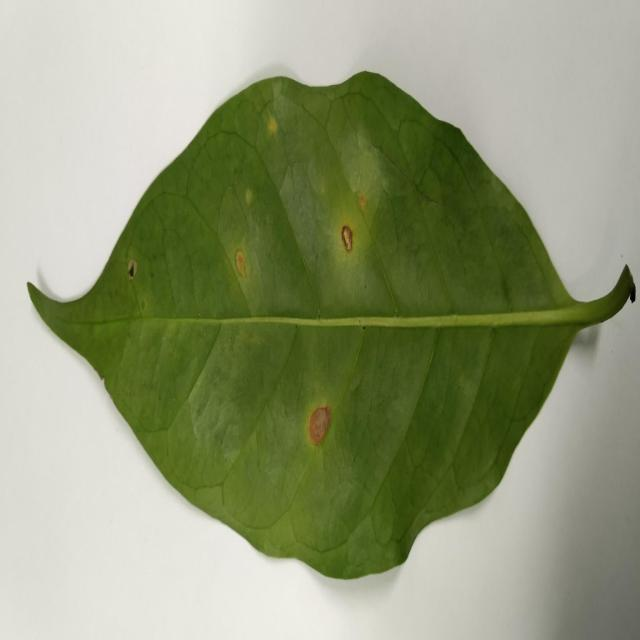Enfermedad-Mancha-de-hierro: (28, 72, 638, 584)
